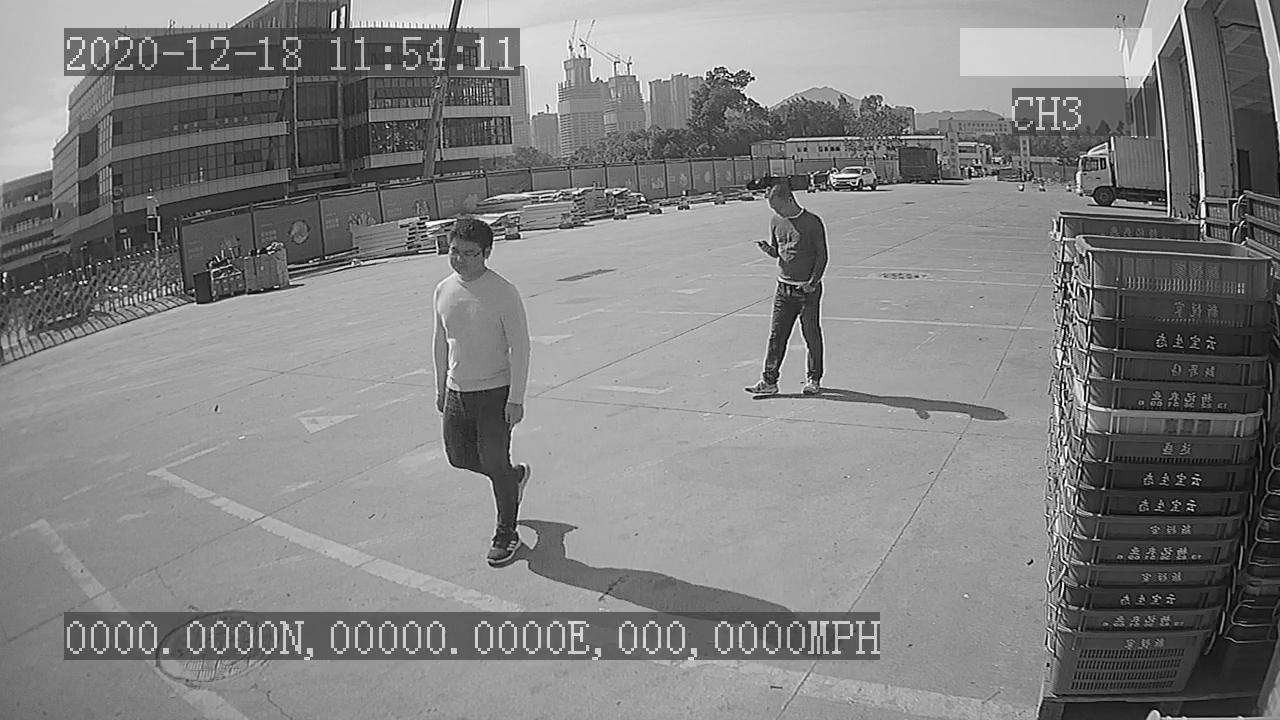person: (422, 213, 538, 569), (743, 177, 833, 401)
